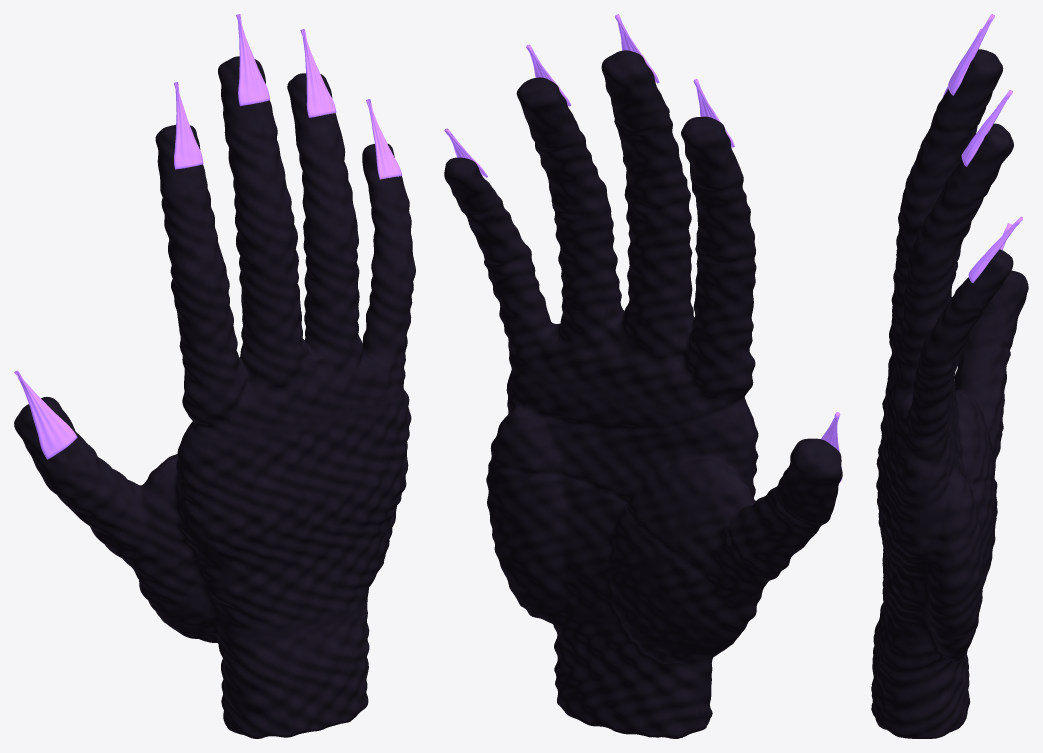
File: family-11.glb
3 renders of one model, left to right at view 1: azimuth 30°, elevation 25°; view 2: azimuth 150°, elevation 25°; view 3: azimuth 270°, elevation 25°, orthographic. The views are drawn at different scales.
Parts seen in each view (by area): view 1: fingers__fingers_sculpt, back_of_hand__back_of_hand_sculpt, wrist__wrist_sculpt, fingertips__fingertips_sculpt, palm__palm_sculpt, nails__thumb_claw, nails__middle_claw, nails__ring_claw, nails__index_claw, nails__pinky_claw; view 2: fingers__fingers_sculpt, palm__palm_sculpt, wrist__wrist_sculpt, fingertips__fingertips_sculpt; view 3: fingers__fingers_sculpt, palm__palm_sculpt, wrist__wrist_sculpt, back_of_hand__back_of_hand_sculpt, fingertips__fingertips_sculpt, nails__middle_claw, nails__ring_claw, nails__pinky_claw.
Boxes of the visible parts, bbox=[...] form: fingers__fingers_sculpt: bbox=[43, 118, 415, 618]; back_of_hand__back_of_hand_sculpt: bbox=[180, 387, 411, 635]; wrist__wrist_sculpt: bbox=[170, 584, 371, 738]; fingertips__fingertips_sculpt: bbox=[14, 56, 405, 479]; palm__palm_sculpt: bbox=[160, 432, 396, 628]; nails__thumb_claw: bbox=[14, 370, 77, 459]; nails__middle_claw: bbox=[236, 14, 269, 106]; nails__ring_claw: bbox=[300, 29, 336, 117]; nails__index_claw: bbox=[174, 82, 203, 169]; nails__pinky_claw: bbox=[366, 99, 402, 179]; fingers__fingers_sculpt: bbox=[458, 103, 833, 641]; palm__palm_sculpt: bbox=[486, 366, 753, 651]; wrist__wrist_sculpt: bbox=[516, 598, 725, 738]; fingertips__fingertips_sculpt: bbox=[444, 50, 842, 518]; fingers__fingers_sculpt: bbox=[886, 100, 1012, 524]; palm__palm_sculpt: bbox=[923, 380, 995, 653]; wrist__wrist_sculpt: bbox=[871, 602, 970, 738]; back_of_hand__back_of_hand_sculpt: bbox=[876, 385, 924, 641]; fingertips__fingertips_sculpt: bbox=[941, 49, 1028, 341]; nails__middle_claw: bbox=[948, 14, 994, 95]; nails__ring_claw: bbox=[961, 90, 1012, 166]; nails__pinky_claw: bbox=[968, 216, 1022, 282].
Size of the model in its own units: 0.1315 by 0.2298 by 0.0477.
2 materials, 1 textured.
